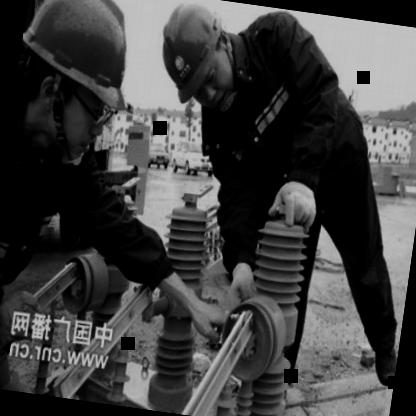helmet: (11, 0, 150, 170), (141, 0, 239, 121)
